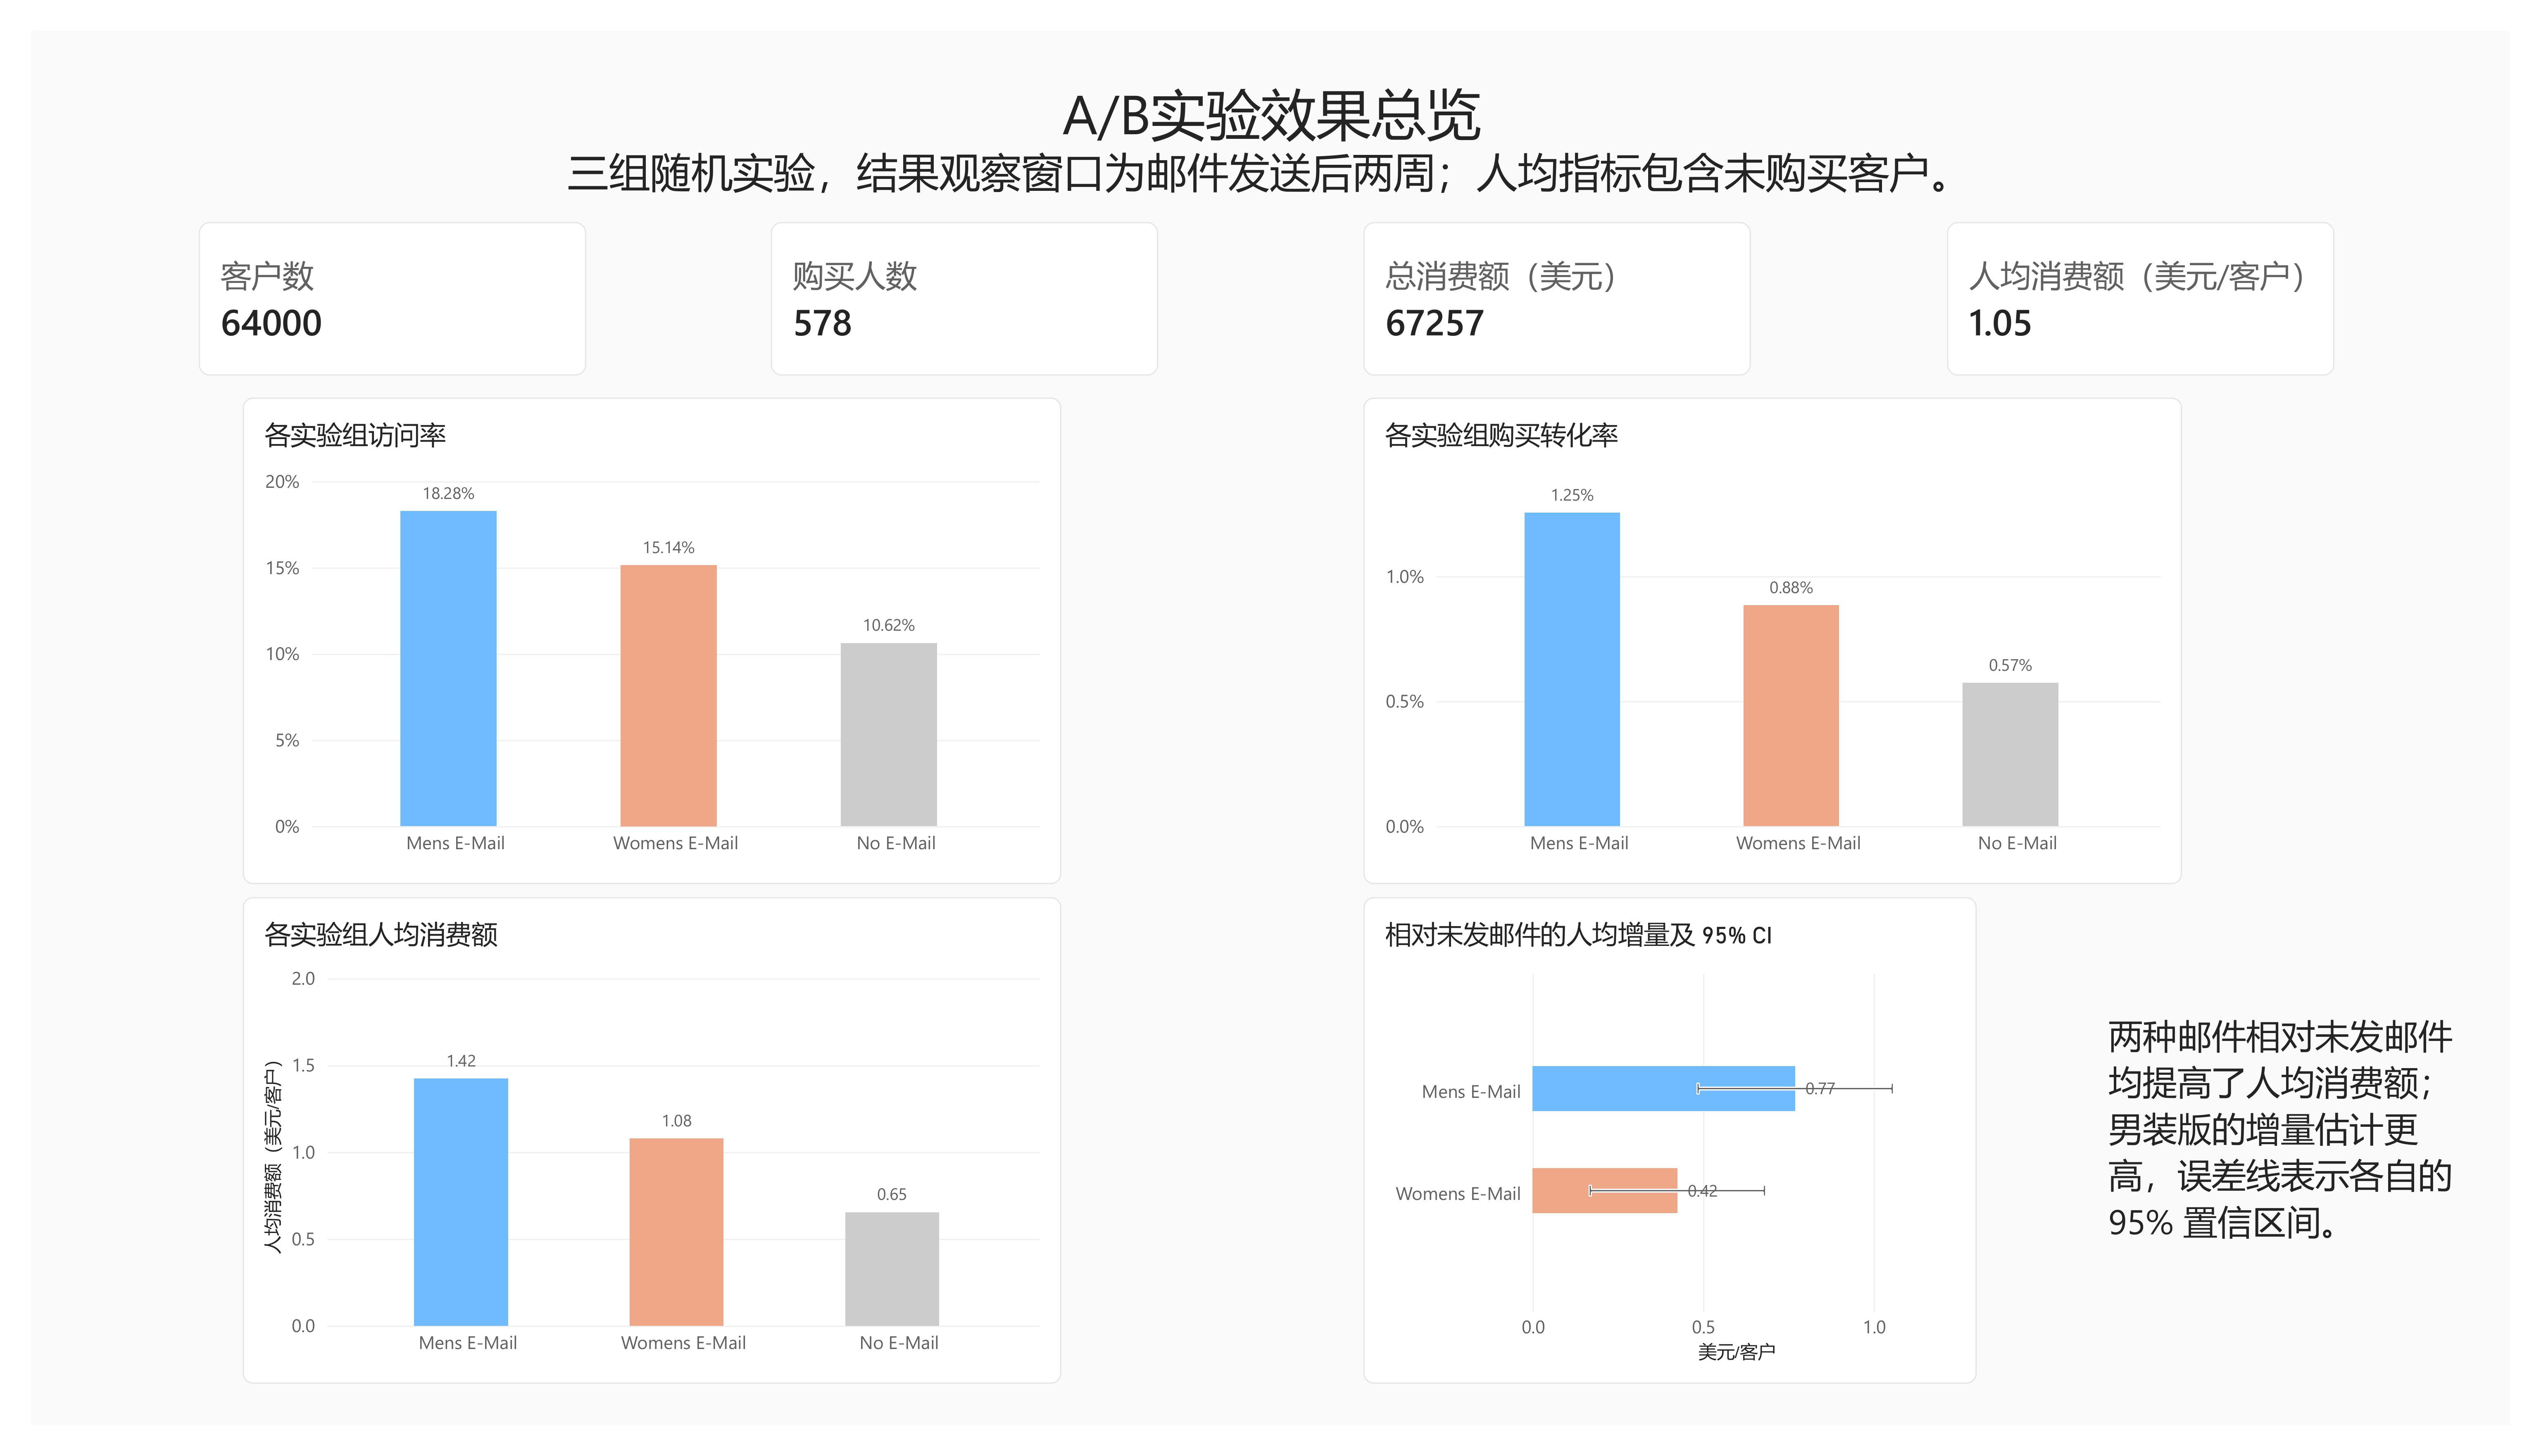

The dashboard page shown, as its layout file describes it:
{"tool":"powerbi","page":{"name":"实验效果总览","canvas":[1920,1080],"ordinal":0},"visuals":[{"type":"textbox","box":[760.7,33.9,400,75],"z":1000},{"type":"textbox","box":[389.3,85.7,1141.1,75],"z":2000},{"type":"cardVisual","fields":{"Data":["Customers.客户数"]},"box":[130.4,148.2,300,119.6],"z":2001},{"type":"cardVisual","fields":{"Data":["Customers.购买人数"]},"box":[573.2,148.2,300,119.6],"z":2002},{"type":"cardVisual","fields":{"Data":["Customers.总消费额"]},"box":[1032.1,148.2,300,119.6],"z":2003},{"type":"cardVisual","fields":{"Data":["Customers.人均消费额"]},"box":[1483.9,148.2,300,119.6],"z":2004},{"type":"clusteredColumnChart","title":"各实验组访问率","fields":{"Category":["Customers.segment"],"Y":["Customers.访问率"]},"box":[164.3,283.9,633.9,376.8],"z":2005},{"type":"clusteredColumnChart","title":"各实验组购买转化率","fields":{"Category":["Customers.segment"],"Y":["Customers.购买转化率"]},"box":[1032.1,283.9,633.9,376.8],"z":2006},{"type":"clusteredColumnChart","title":"各实验组人均消费额","fields":{"Category":["Customers.segment"],"Y":["Customers.人均消费额"]},"box":[164.3,671.4,633.9,376.8],"z":2007},{"type":"clusteredBarChart","title":"相对未发邮件的人均增量及 95% CI","fields":{"Category":["OverallEffects.campaign"],"Y":["Sum(OverallEffects.lift)"]},"box":[1032.1,671.4,475,376.8],"z":2008},{"type":"textbox","box":[1608.9,758.9,282.1,203.6],"z":2009}]}

Visuals, with their boxes on the page's 1920x1080 design canvas (x1, y1, x2, y2). These are canvas units, not pixel positions in the 2541x1456 screenshot, which may show the page scaled, cropped or inside an application window:
textbox: [x1=761, y1=34, x2=1161, y2=109]
textbox: [x1=389, y1=86, x2=1530, y2=161]
cardVisual - Customers.客户数: [x1=130, y1=148, x2=430, y2=268]
cardVisual - Customers.购买人数: [x1=573, y1=148, x2=873, y2=268]
cardVisual - Customers.总消费额: [x1=1032, y1=148, x2=1332, y2=268]
cardVisual - Customers.人均消费额: [x1=1484, y1=148, x2=1784, y2=268]
"各实验组访问率" clusteredColumnChart: [x1=164, y1=284, x2=798, y2=661]
"各实验组购买转化率" clusteredColumnChart: [x1=1032, y1=284, x2=1666, y2=661]
"各实验组人均消费额" clusteredColumnChart: [x1=164, y1=671, x2=798, y2=1048]
"相对未发邮件的人均增量及 95% CI" clusteredBarChart: [x1=1032, y1=671, x2=1507, y2=1048]
textbox: [x1=1609, y1=759, x2=1891, y2=962]
